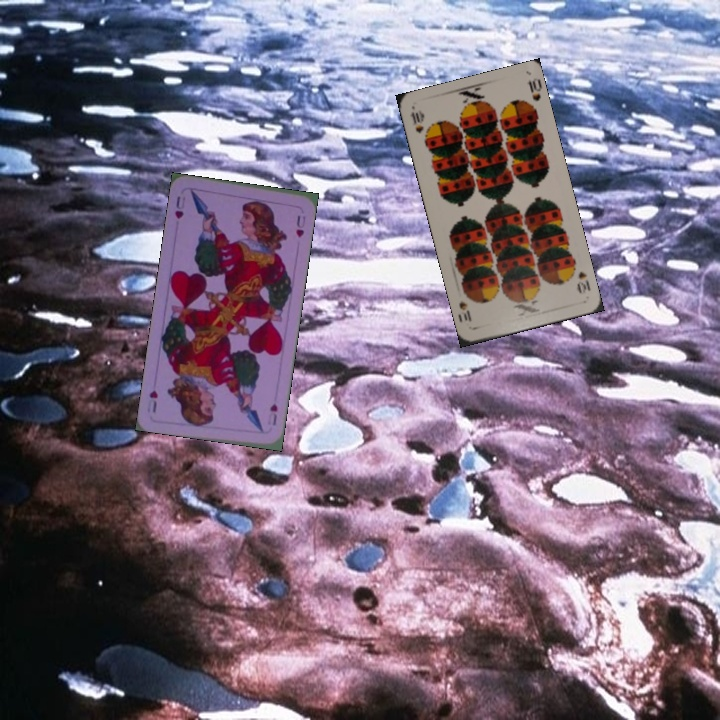HU: (171, 192, 188, 221), (266, 399, 280, 428)
S10: (568, 259, 593, 296), (406, 106, 426, 136)
